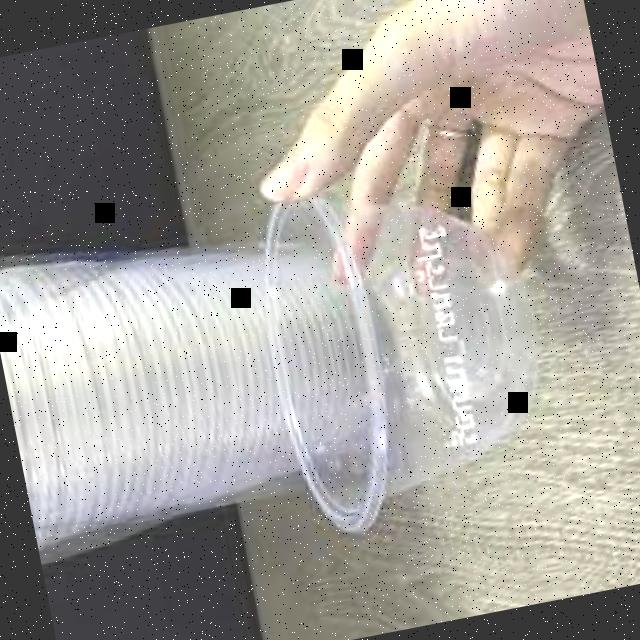plastic_box: (237, 144, 568, 541)
